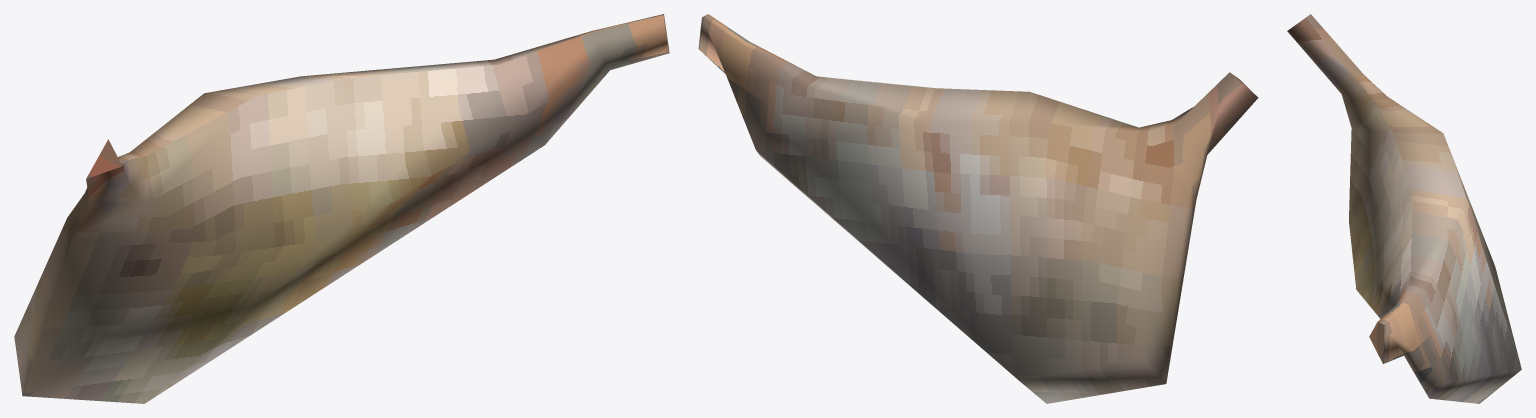
The model's file is eqp_organ_stomach_s01_l2.fbx.
3 renders of one model, left to right at view 1: azimuth 30°, elevation 25°; view 2: azimuth 150°, elevation 25°; view 3: azimuth 270°, elevation 25°, orthographic. The views are drawn at different scales.
Visible parts, largest first — view 1: mesh_node; view 2: mesh_node; view 3: mesh_node.
Boxes of the visible parts, bbox=[...] form: mesh_node: bbox=[14, 14, 669, 403]; mesh_node: bbox=[698, 14, 1258, 403]; mesh_node: bbox=[1287, 14, 1521, 403].
Bounding box in the file's own units: 0.8113 × 0.4481 × 0.2865.
